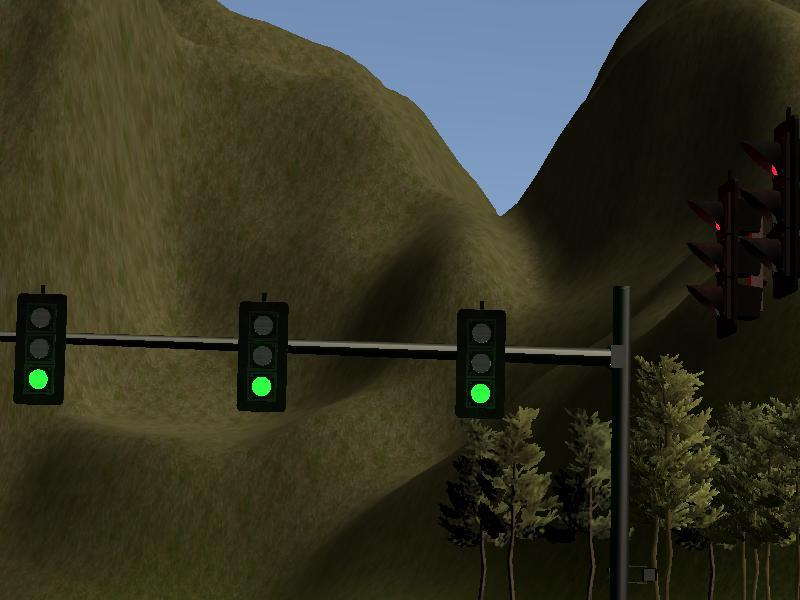Green: (14, 292, 65, 403), (455, 308, 506, 419), (236, 300, 287, 411)
